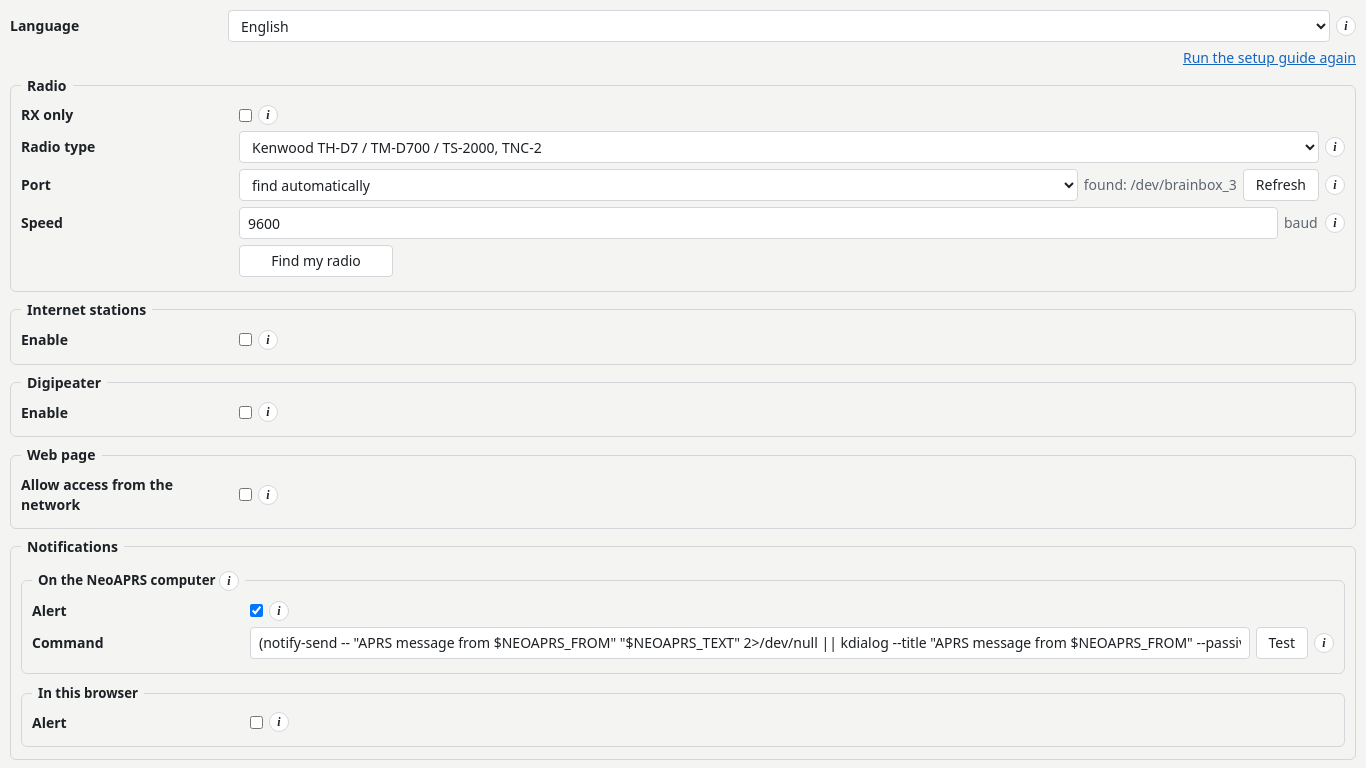
the (i) of the Settings tab › has a one-line (i) on the alert and its command too, which the group's (i) explains further
This screenshot has width=1366, height=768.
Expected: the 10th button with class "info-toggle" is shown, [269,601,289,621]
Click the button "i" in the row of "Command" at (1324, 643), box [1314,633,1334,653]
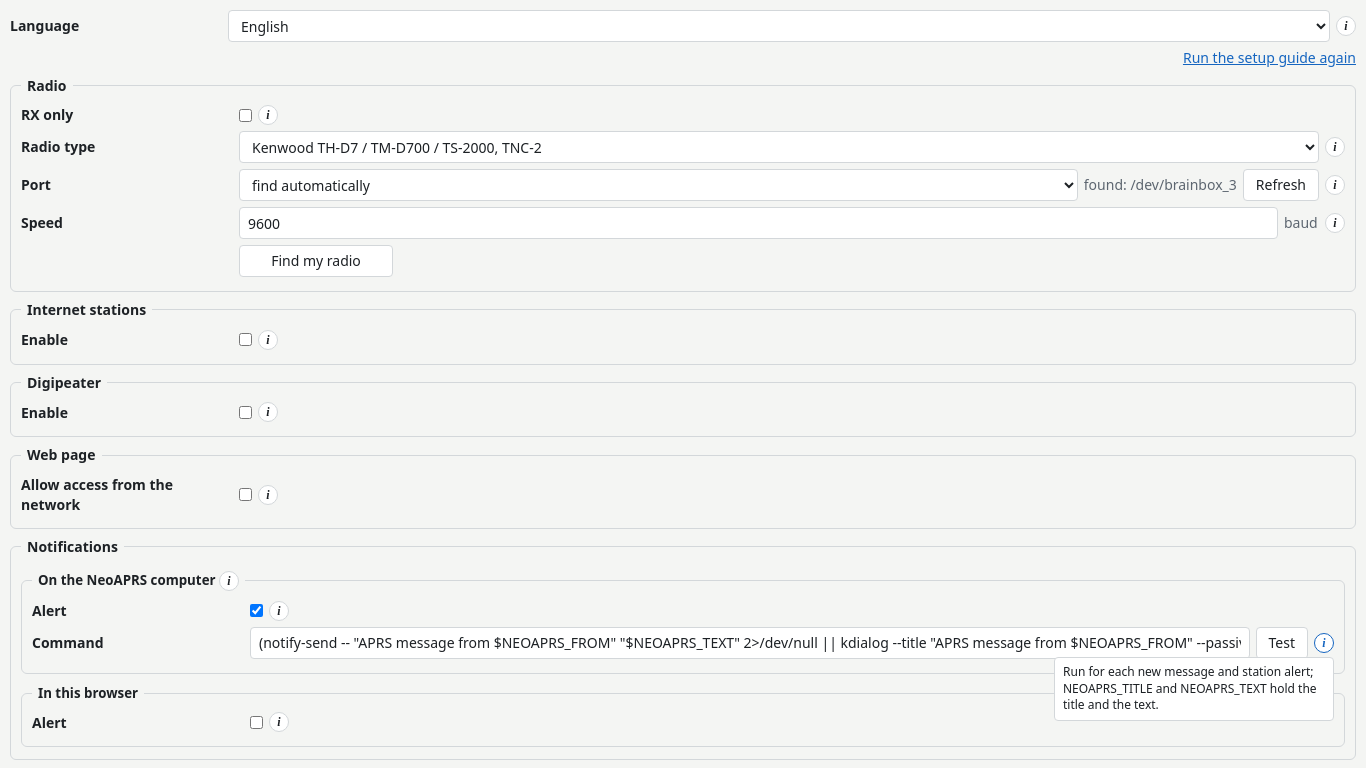
Result: the element with class "info-text" shows "NEOAPRS_TITLE and NEOAPRS_TEXT" at [1063,663,1317,713]
